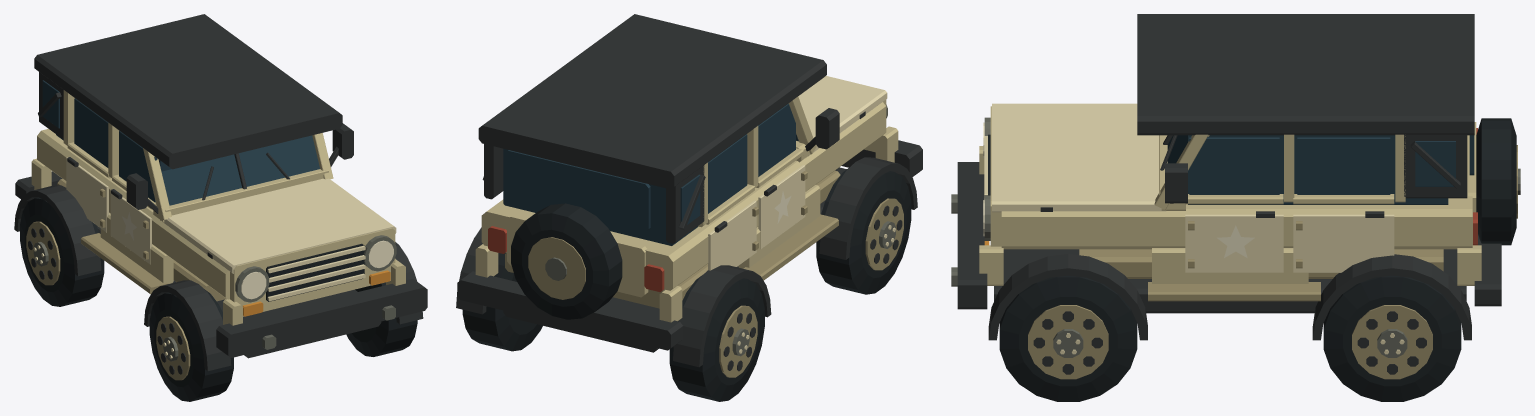
Rendered from Jeep.obj.
3 renders of one model, left to right at view 1: azimuth 30°, elevation 25°; view 2: azimuth 150°, elevation 25°; view 3: azimuth 270°, elevation 25°, orthographic. The views are drawn at different scales.
Parts seen in each view (by area): view 1: SoftRoof, Hood, FrontBumper, Windshield, UpperBody, TyreWheelFL, TyreWheelRL, GrilleSurround, FenderLF, FenderLR, Radiator, TyreWheelFR (+32 smaller); view 2: SoftRoof, SpareTyre, UpperBody, RearWindow, RearBumper, TyreWheelFL, TyreWheelRL, FenderLR, FenderLF, Hood, TyreWheelRR, SpareRim (+27 smaller); view 3: SoftRoof, Hood, UpperBody, TyreWheelFR, TyreWheelRR, SideWindowR1, DoorR0, DoorR1, SideWindowR0, SpareTyre, Chassis, FenderRF (+24 smaller).
Boxes of the visible parts, <box> form: SoftRoof: <box>34,14,342,169</box>; Hood: <box>162,178,396,273</box>; FrontBumper: <box>216,278,427,357</box>; Windshield: <box>161,135,319,205</box>; UpperBody: <box>37,129,229,299</box>; TyreWheelFL: <box>149,289,233,401</box>; TyreWheelRL: <box>20,197,104,306</box>; GrilleSurround: <box>230,228,395,316</box>; FenderLF: <box>144,280,231,370</box>; FenderLR: <box>14,185,101,276</box>; Radiator: <box>266,243,364,301</box>; TyreWheelFR: <box>346,282,417,356</box>; SoftRoof: <box>478,14,826,189</box>; SpareTyre: <box>511,203,622,319</box>; UpperBody: <box>481,102,886,291</box>; RearWindow: <box>504,150,650,231</box>; RearBumper: <box>457,271,683,350</box>; TyreWheelFL: <box>816,167,911,294</box>; TyreWheelRL: <box>669,275,764,401</box>; FenderLR: <box>673,265,771,367</box>; FenderLF: <box>819,157,917,259</box>; Hood: <box>798,76,887,156</box>; TyreWheelRR: <box>462,253,542,351</box>; SpareRim: <box>528,237,585,299</box>; SoftRoof: <box>1137,14,1474,135</box>; Hood: <box>992,103,1165,212</box>; UpperBody: <box>1001,135,1472,249</box>; TyreWheelFR: <box>999,275,1137,401</box>; TyreWheelRR: <box>1323,275,1461,401</box>; SideWindowR1: <box>1297,137,1390,194</box>; DoorR0: <box>1185,214,1283,272</box>; DoorR1: <box>1293,214,1394,272</box>; SideWindowR0: <box>1189,137,1279,194</box>; SpareTyre: <box>1476,118,1516,245</box>; Chassis: <box>994,249,1466,313</box>; FenderRF: <box>988,254,1147,340</box>.
Bounding box in the file's own units: 2.46 × 2.22 × 4.22.
